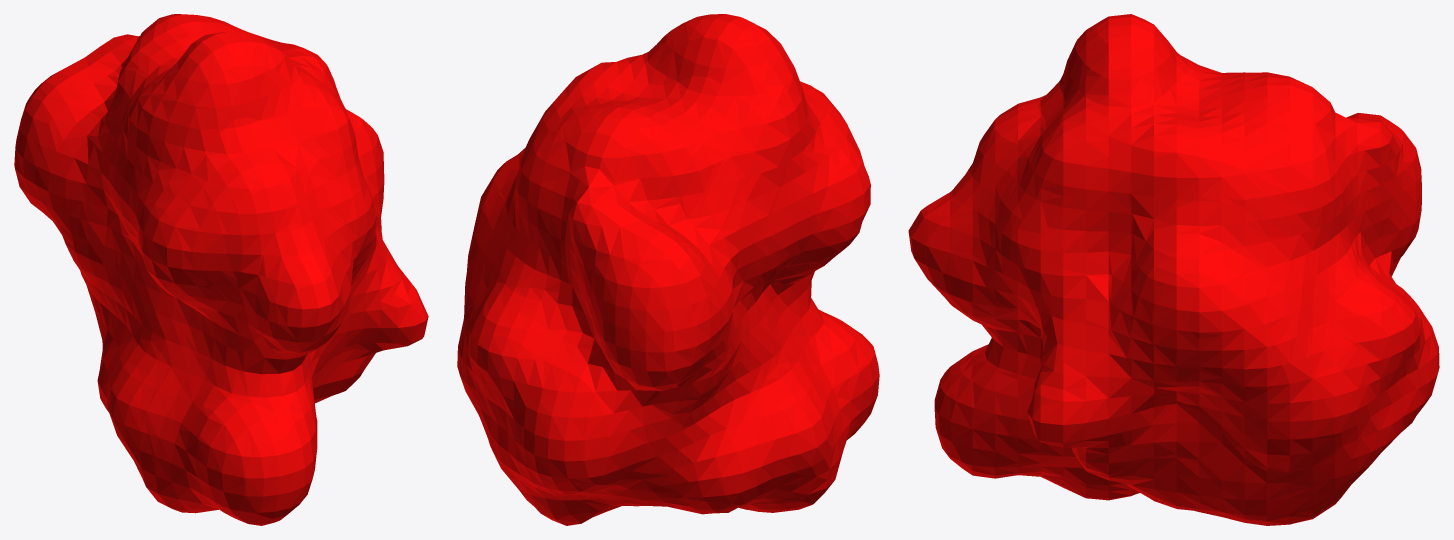
Rendered from yibF_coarse.dae.
The picture shows the model from 3 angles, left to right: view 1: azimuth 30°, elevation 25°; view 2: azimuth 150°, elevation 25°; view 3: azimuth 270°, elevation 25°; orthographic projection. The views are drawn at different scales.
Parts seen in each view (by area): view 1: yibF; view 2: yibF; view 3: yibF.
Part boxes in pixels (x1,y1,x2,y2): yibF: (14,14,428,525); yibF: (457,14,879,525); yibF: (908,14,1439,525).
Bounding box in the file's own units: 35.73 × 53.87 × 52.67.
